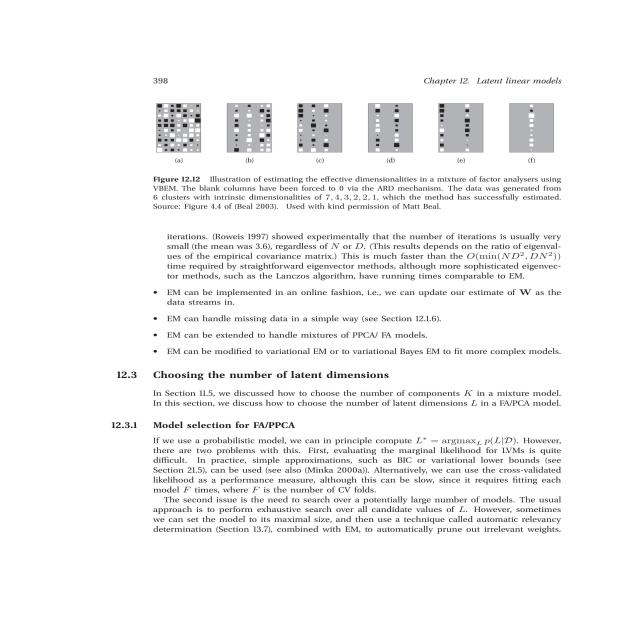diagram: (99, 91, 640, 220)
